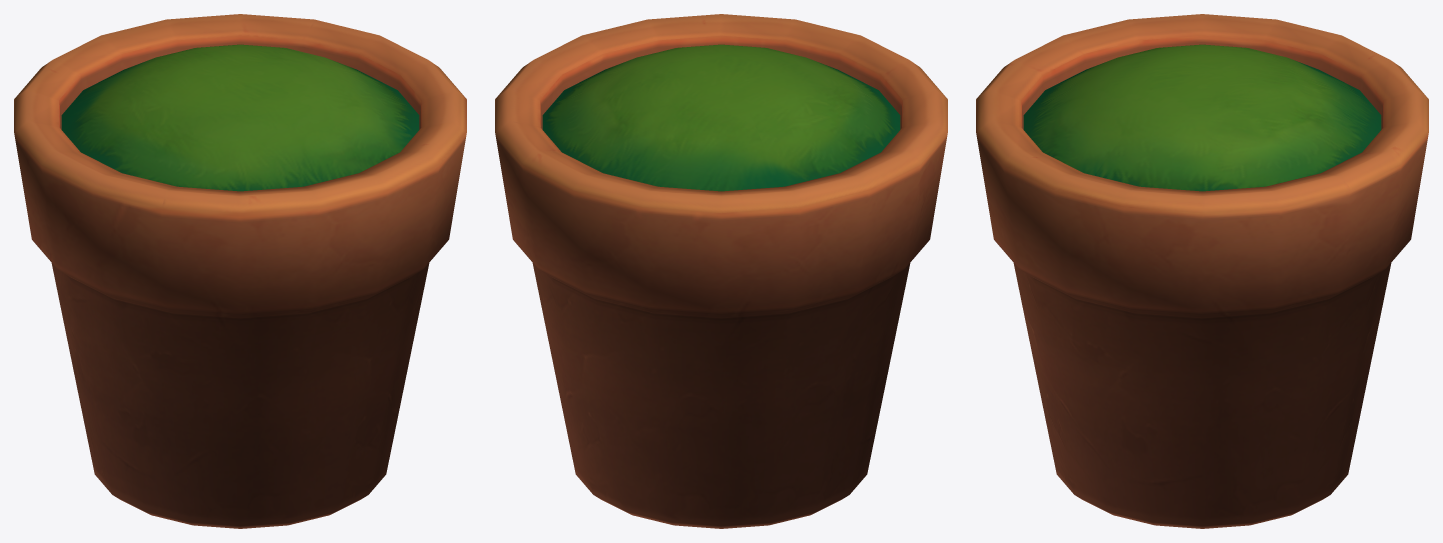
Rendered from SE_Pot_01a.fbx.
3 views of the same model, side by side, from view 1: azimuth 30°, elevation 25°; view 2: azimuth 150°, elevation 25°; view 3: azimuth 270°, elevation 25° (orthographic).
Visible parts, largest first — view 1: SE_Pot_01a; view 2: SE_Pot_01a; view 3: SE_Pot_01a.
Boxes of the visible parts, x1,y1,x2,y2 form: SE_Pot_01a: (14, 14, 466, 528); SE_Pot_01a: (495, 14, 947, 528); SE_Pot_01a: (976, 14, 1428, 528).
Size of the model in its own units: 1.77 by 1.67 by 1.74.
